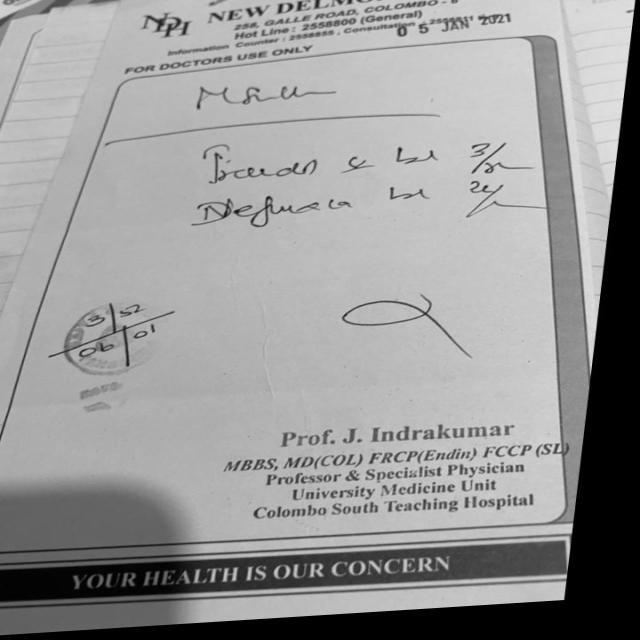Prescription: (180, 182, 548, 256), (196, 127, 534, 195)
